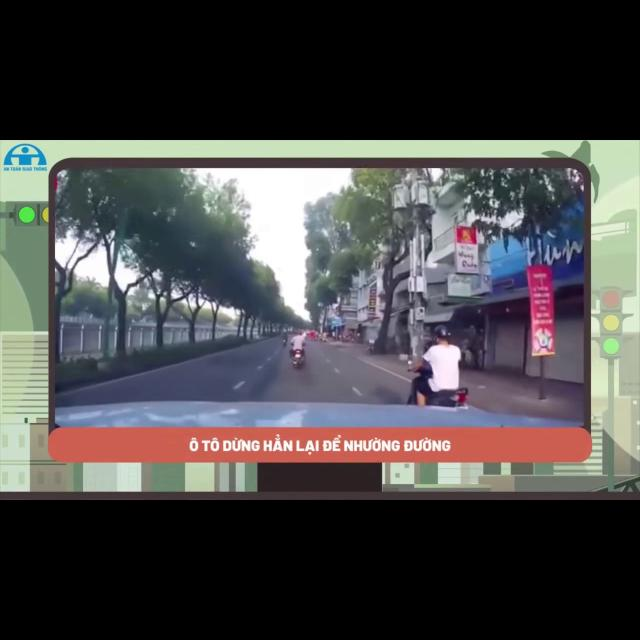motorcycle: (407, 366, 432, 404), (292, 349, 304, 369), (367, 340, 374, 355), (283, 339, 287, 346)
